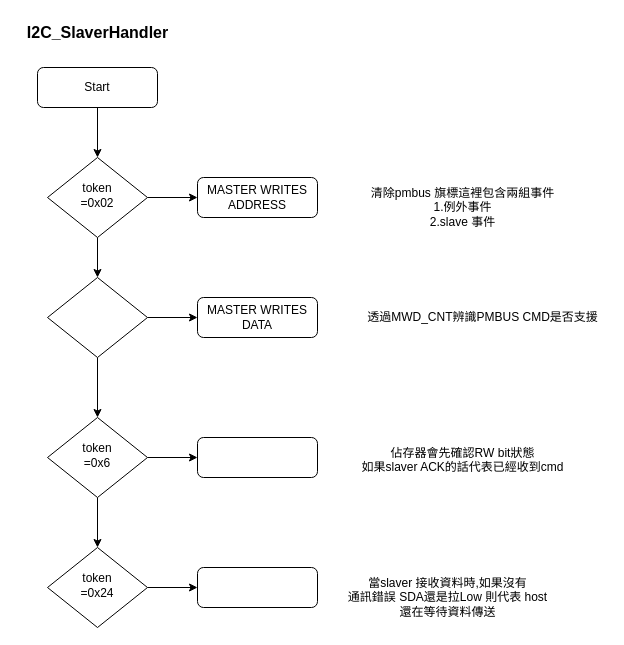
Some shapes in this 624 by 645 pixel diagram are drawn without their labels. The shapes that lost their labels are listed below. From the top down, each one's box as (x1, y1, x2, y2) in pixels, then its label:
(46, 276, 148, 358): token =0x22
(196, 436, 318, 478): MASTER READS ADDRESS
(196, 566, 318, 608): MASTER READS DATA
